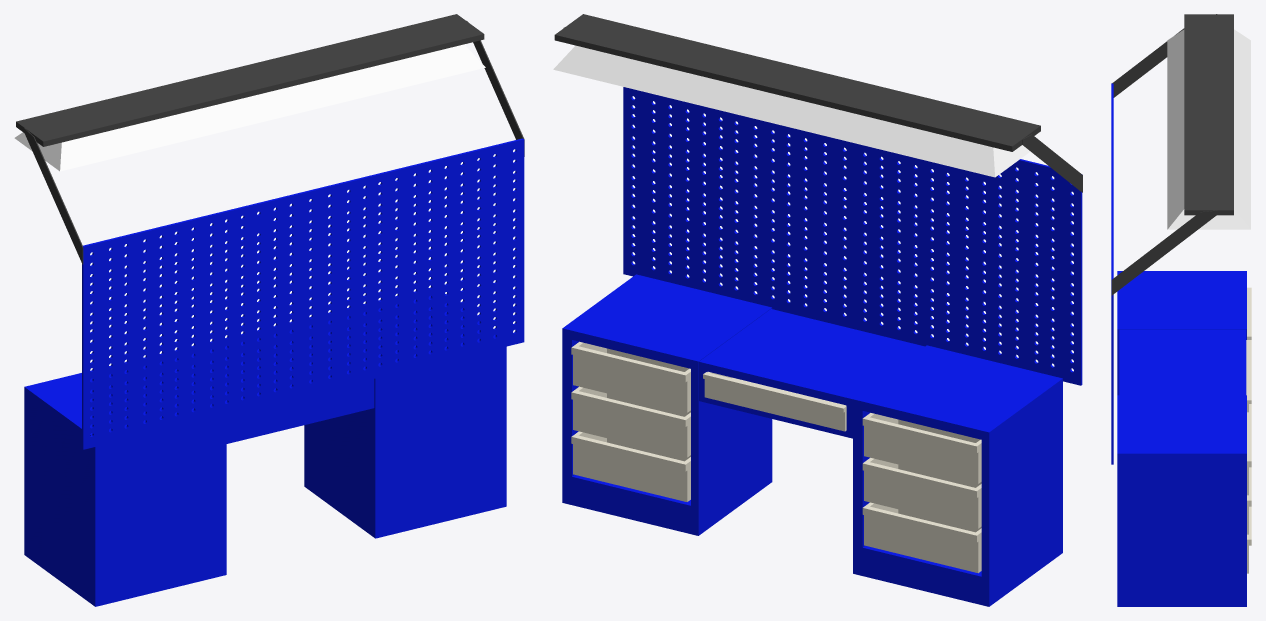
File: Mesa.fbx
The picture shows the model from 3 angles, left to right: view 1: azimuth 30°, elevation 25°; view 2: azimuth 150°, elevation 25°; view 3: azimuth 270°, elevation 25°; orthographic projection. The views are drawn at different scales.
Parts seen in each view (by area): view 1: pCube7, pCube9, pCube5, pCube14, pCube15, pCube10, pCube13, pCube11; view 2: pCube7, pCube9, pCube5, pCube14, pCube15, pCube10, pCube22, pCube29, pCube27, pCube30, pCube31, pCube28 (+2 smaller); view 3: pCube5, pCube14, pCube10, pCube9, pCube15, pCube11, pCube7, pCube13, pCube32, pCube22, pCube29.
Part boxes in pixels (left/top/right/bottom): pCube7: left=82, top=138, right=524, bottom=449; pCube9: left=24, top=357, right=226, bottom=606; pCube5: left=304, top=288, right=506, bottom=538; pCube14: left=16, top=14, right=484, bottom=146; pCube15: left=14, top=44, right=485, bottom=171; pCube10: left=174, top=325, right=374, bottom=443; pCube13: left=24, top=128, right=83, bottom=264; pCube11: left=467, top=21, right=524, bottom=156; pCube7: left=623, top=87, right=1082, bottom=385; pCube9: left=853, top=345, right=1062, bottom=606; pCube5: left=562, top=274, right=772, bottom=535; pCube14: left=554, top=14, right=1040, bottom=151; pCube15: left=553, top=45, right=1030, bottom=177; pCube10: left=699, top=309, right=924, bottom=438; pCube22: left=571, top=341, right=690, bottom=412; pCube29: left=862, top=413, right=981, bottom=483; pCube27: left=571, top=386, right=690, bottom=457; pCube30: left=862, top=457, right=981, bottom=528; pCube31: left=862, top=502, right=981, bottom=573; pCube28: left=571, top=431, right=690, bottom=501; pCube5: left=1117, top=395, right=1246, bottom=606; pCube14: left=1184, top=14, right=1233, bottom=215; pCube10: left=1119, top=329, right=1246, bottom=395; pCube9: left=1117, top=271, right=1246, bottom=395; pCube15: left=1167, top=29, right=1250, bottom=229; pCube11: left=1111, top=210, right=1217, bottom=295; pCube7: left=1111, top=83, right=1113, bottom=464; pCube13: left=1112, top=14, right=1216, bottom=97; pCube32: left=1246, top=340, right=1251, bottom=412; pCube22: left=1247, top=412, right=1251, bottom=495; pCube29: left=1247, top=287, right=1251, bottom=339.
Size of the model in its own units: 16.95 by 16.2 by 5.12.
